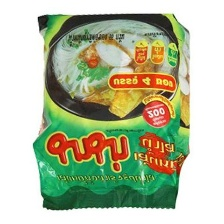snack: (25, 6, 197, 218)
